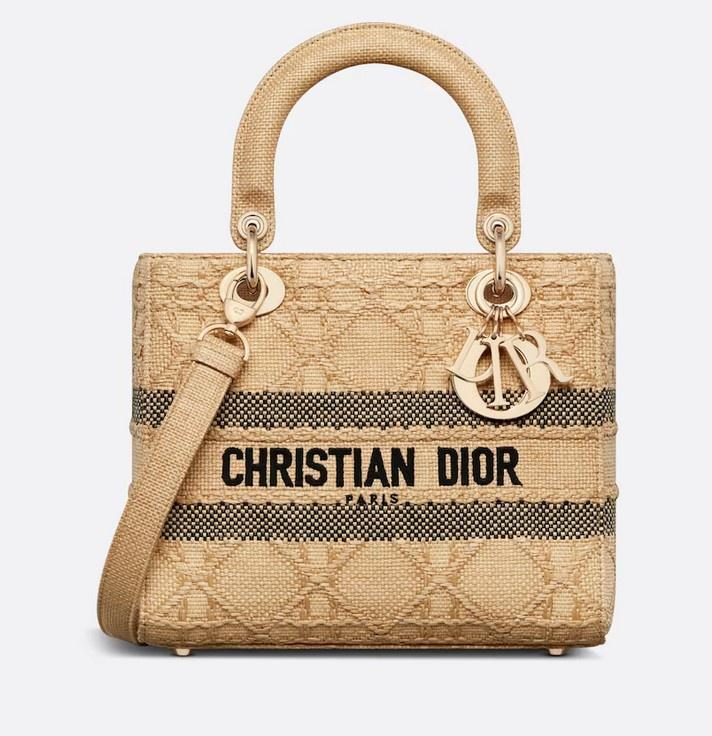DIOR: (206, 421, 530, 506)
